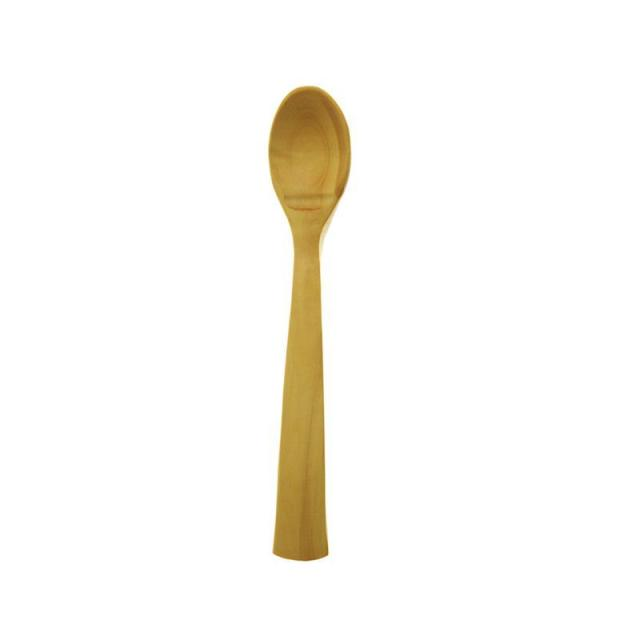spoon: (219, 54, 371, 566)
